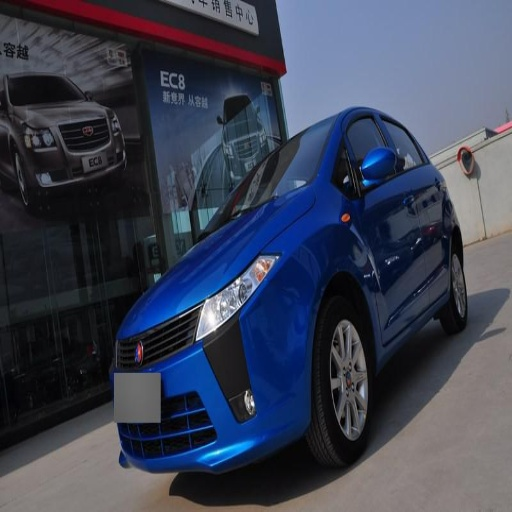front_bumper: (111, 298, 307, 472), (2, 107, 124, 206)
front_glass: (256, 119, 334, 203)
front_left_door: (343, 109, 427, 339)
